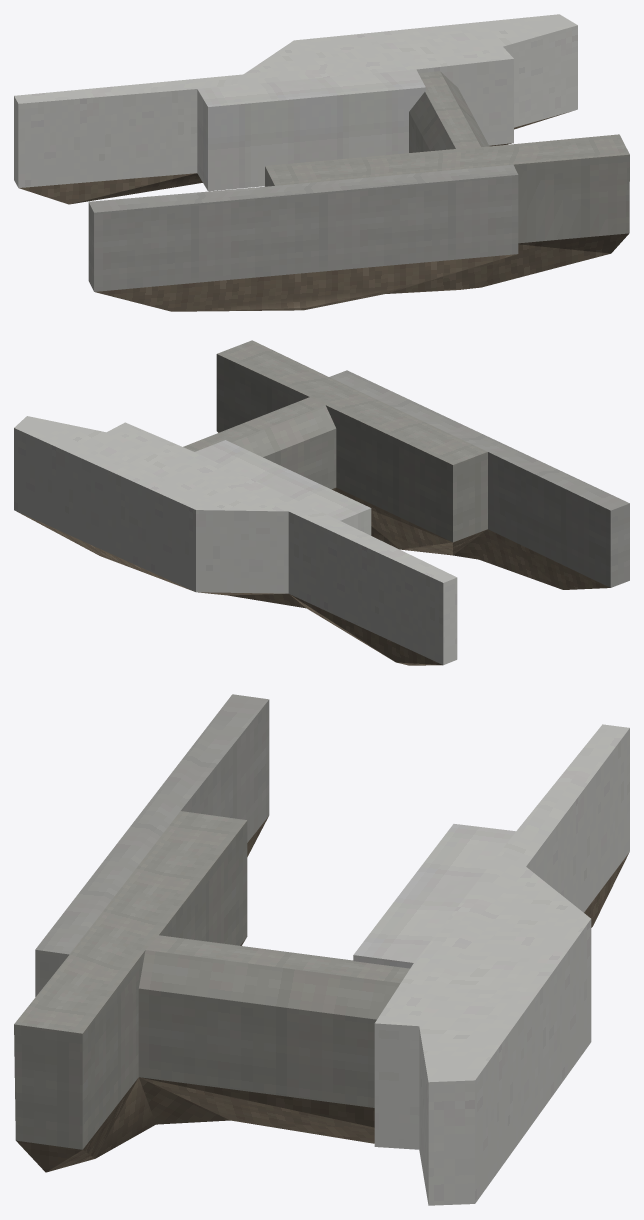
Rendered from 05a0_Old_Fishing_Port.glb.
3 renders of one model, top to bottom at view 1: azimuth 30°, elevation 25°; view 2: azimuth 150°, elevation 25°; view 3: azimuth 270°, elevation 25°, orthographic. The views are drawn at different scales.
Visible parts, largest first — view 1: part_0; view 2: part_0; view 3: part_0.
Part boxes in pixels (x1=…): part_0: x1=14, y1=14, x2=629, y2=311; part_0: x1=14, y1=340, x2=629, y2=665; part_0: x1=14, y1=694, x2=629, y2=1205.
Bounding box in the file's own units: 227 × 54.03 × 150.
1 material, 1 textured.
